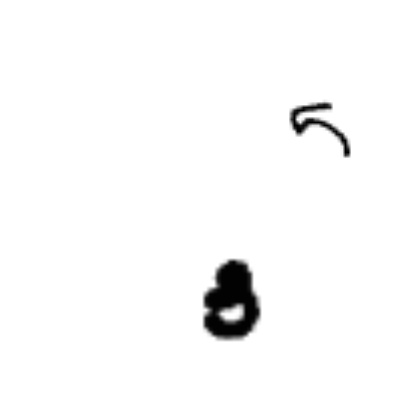0: (80, 80, 136, 136)
6: (118, 233, 174, 289)
Dress: (290, 131, 346, 187)
